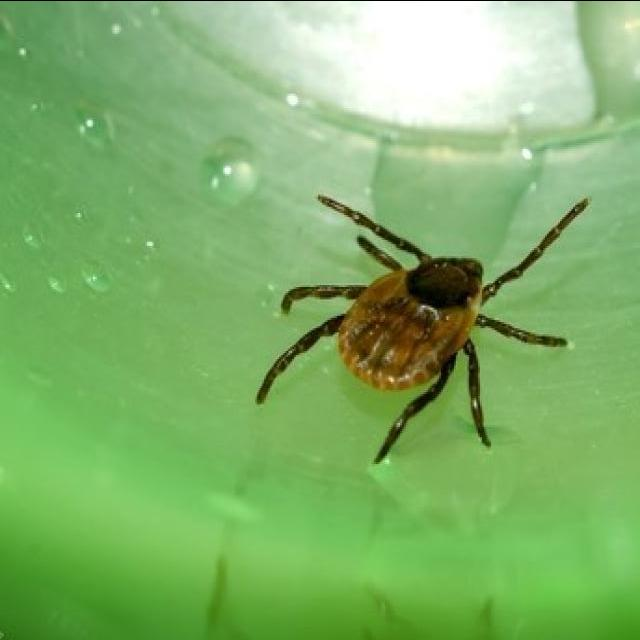Rhipicephalus Sanguineus-F: (257, 193, 586, 463)
